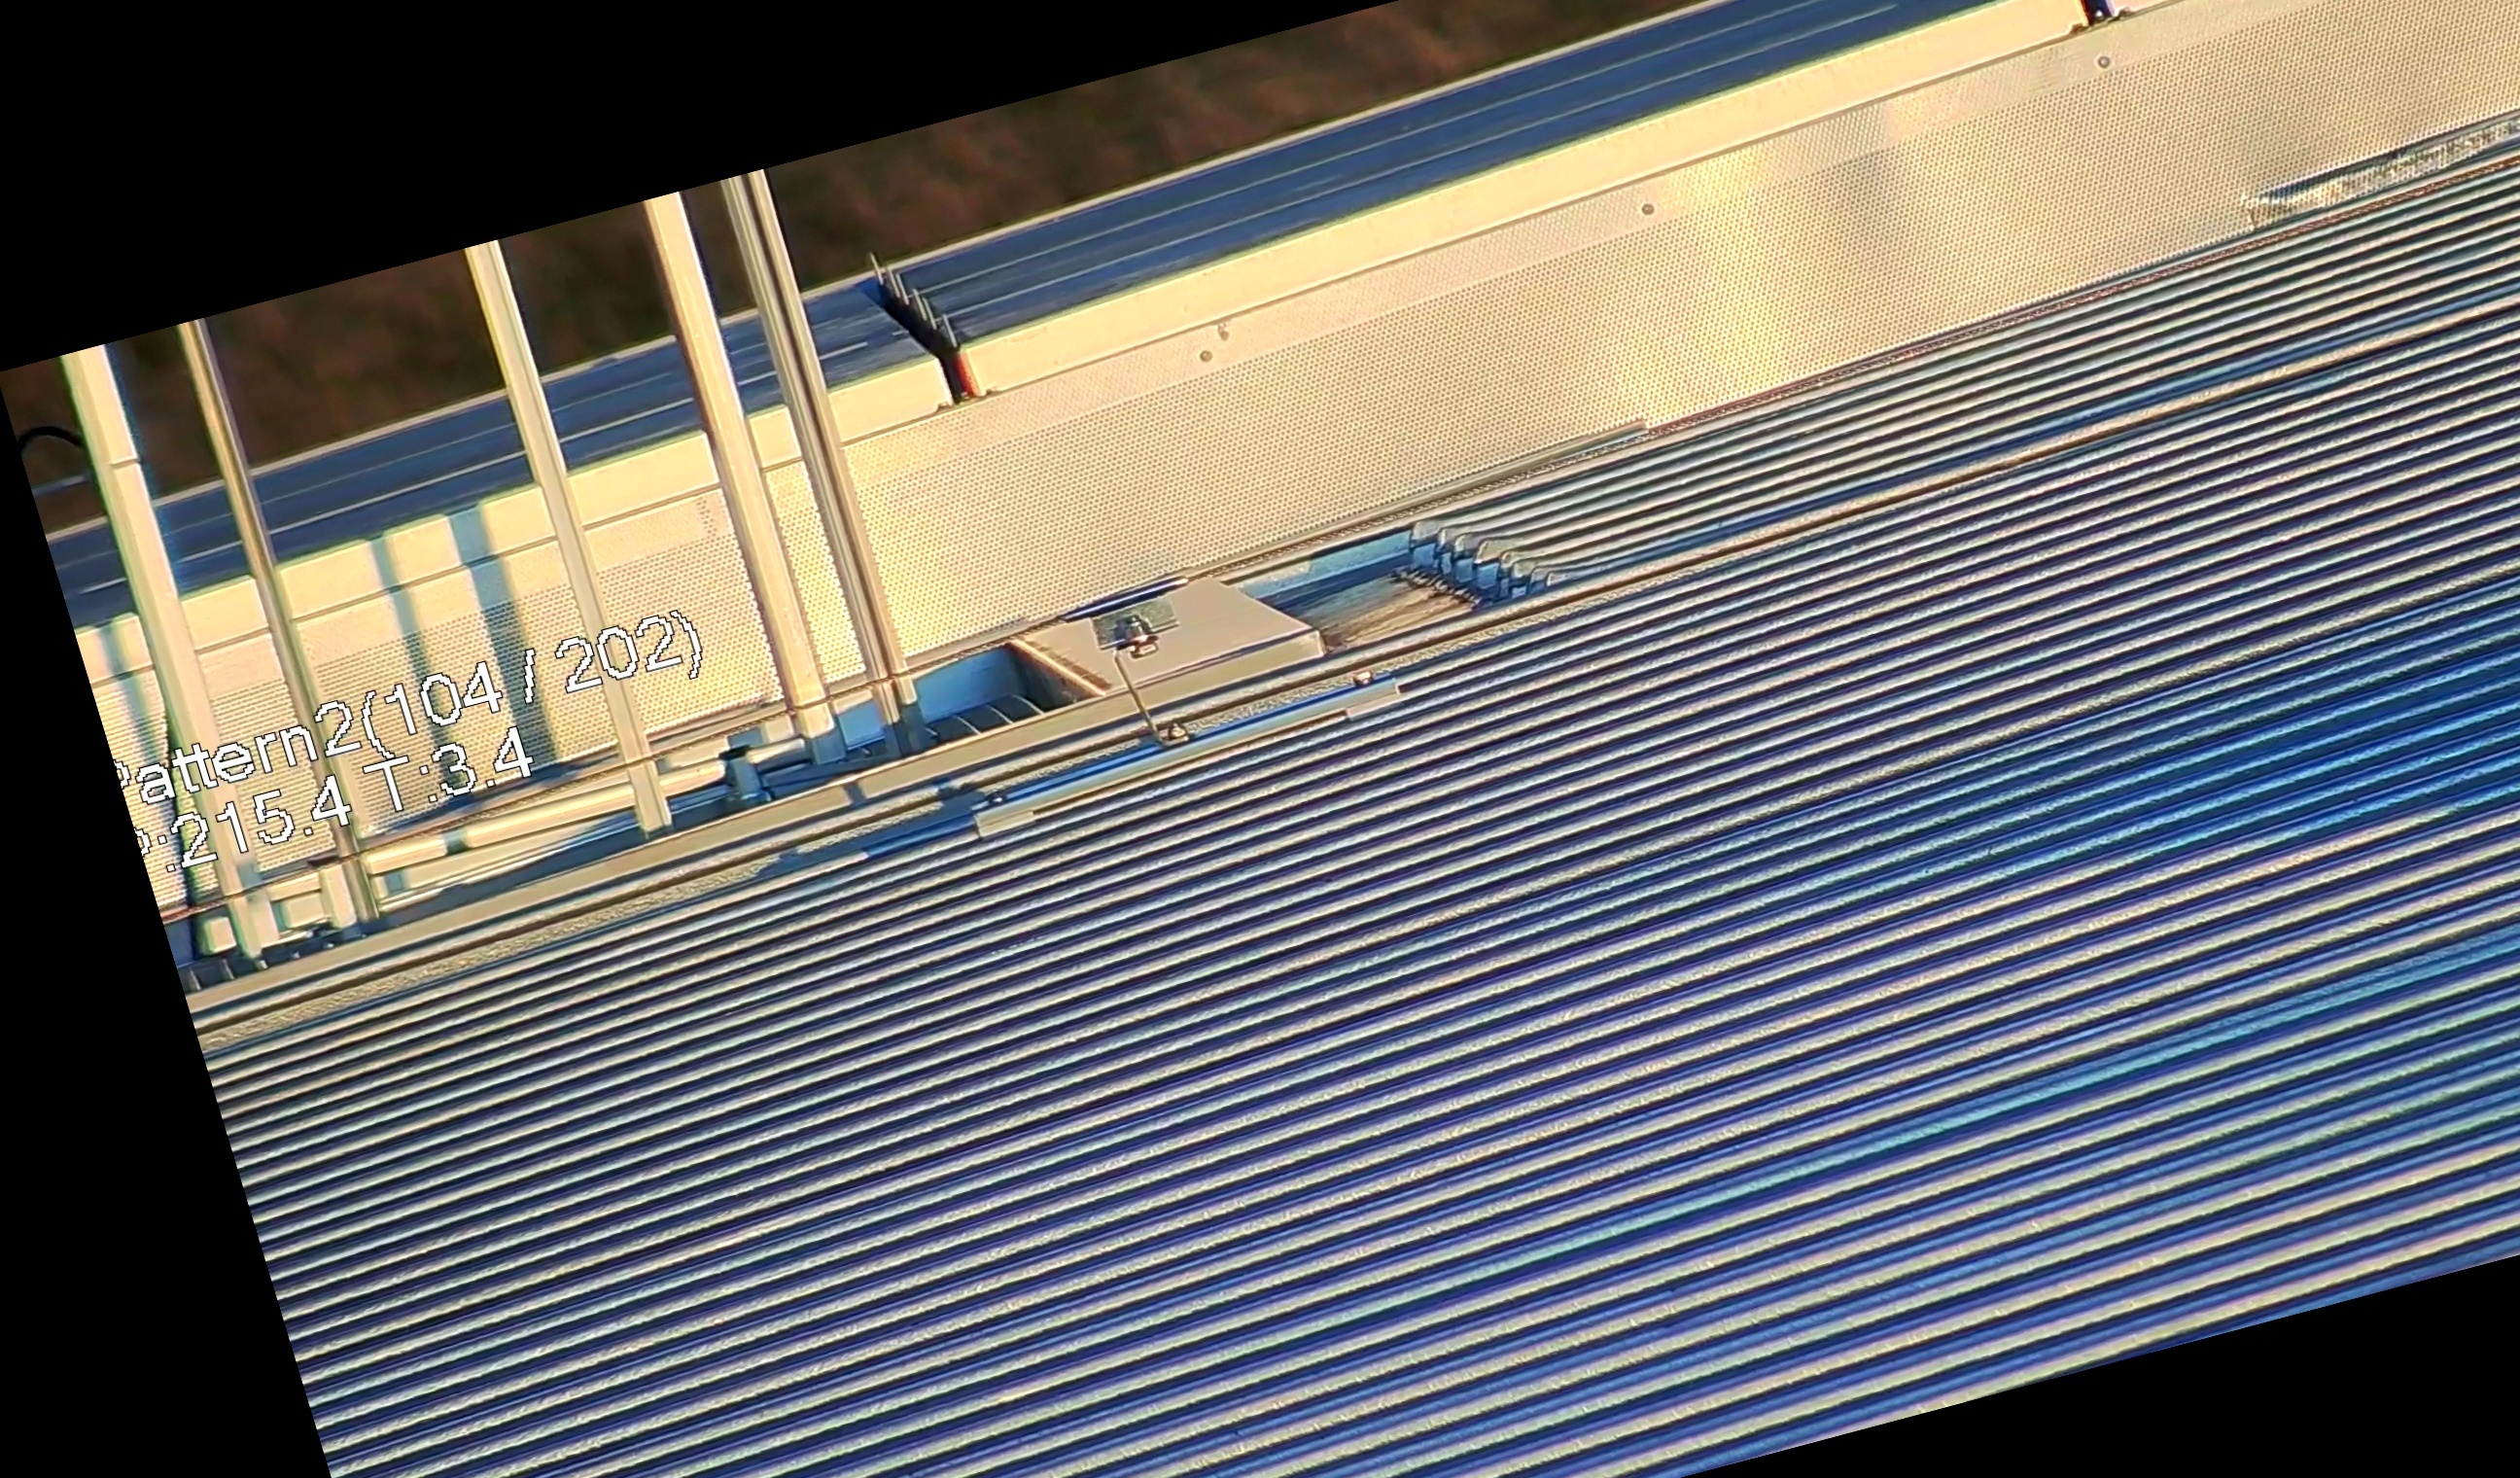Other: (834, 229, 1001, 428)
